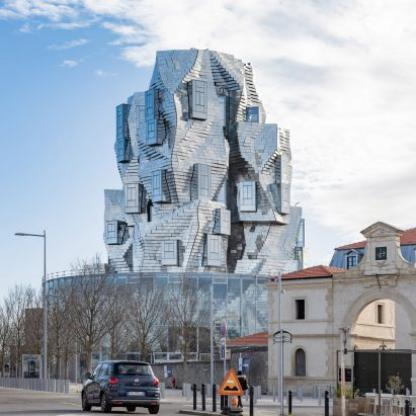Balcony: (238, 121, 290, 144)
Building Outline: (41, 46, 309, 394)
Door: (246, 108, 258, 129)
Facade: (164, 46, 311, 396)
Glass Wall: (164, 274, 270, 363)
Window: (195, 87, 204, 112), (210, 239, 219, 260), (201, 175, 210, 196), (244, 185, 253, 205), (165, 244, 174, 259), (283, 188, 288, 209), (223, 213, 229, 230)
